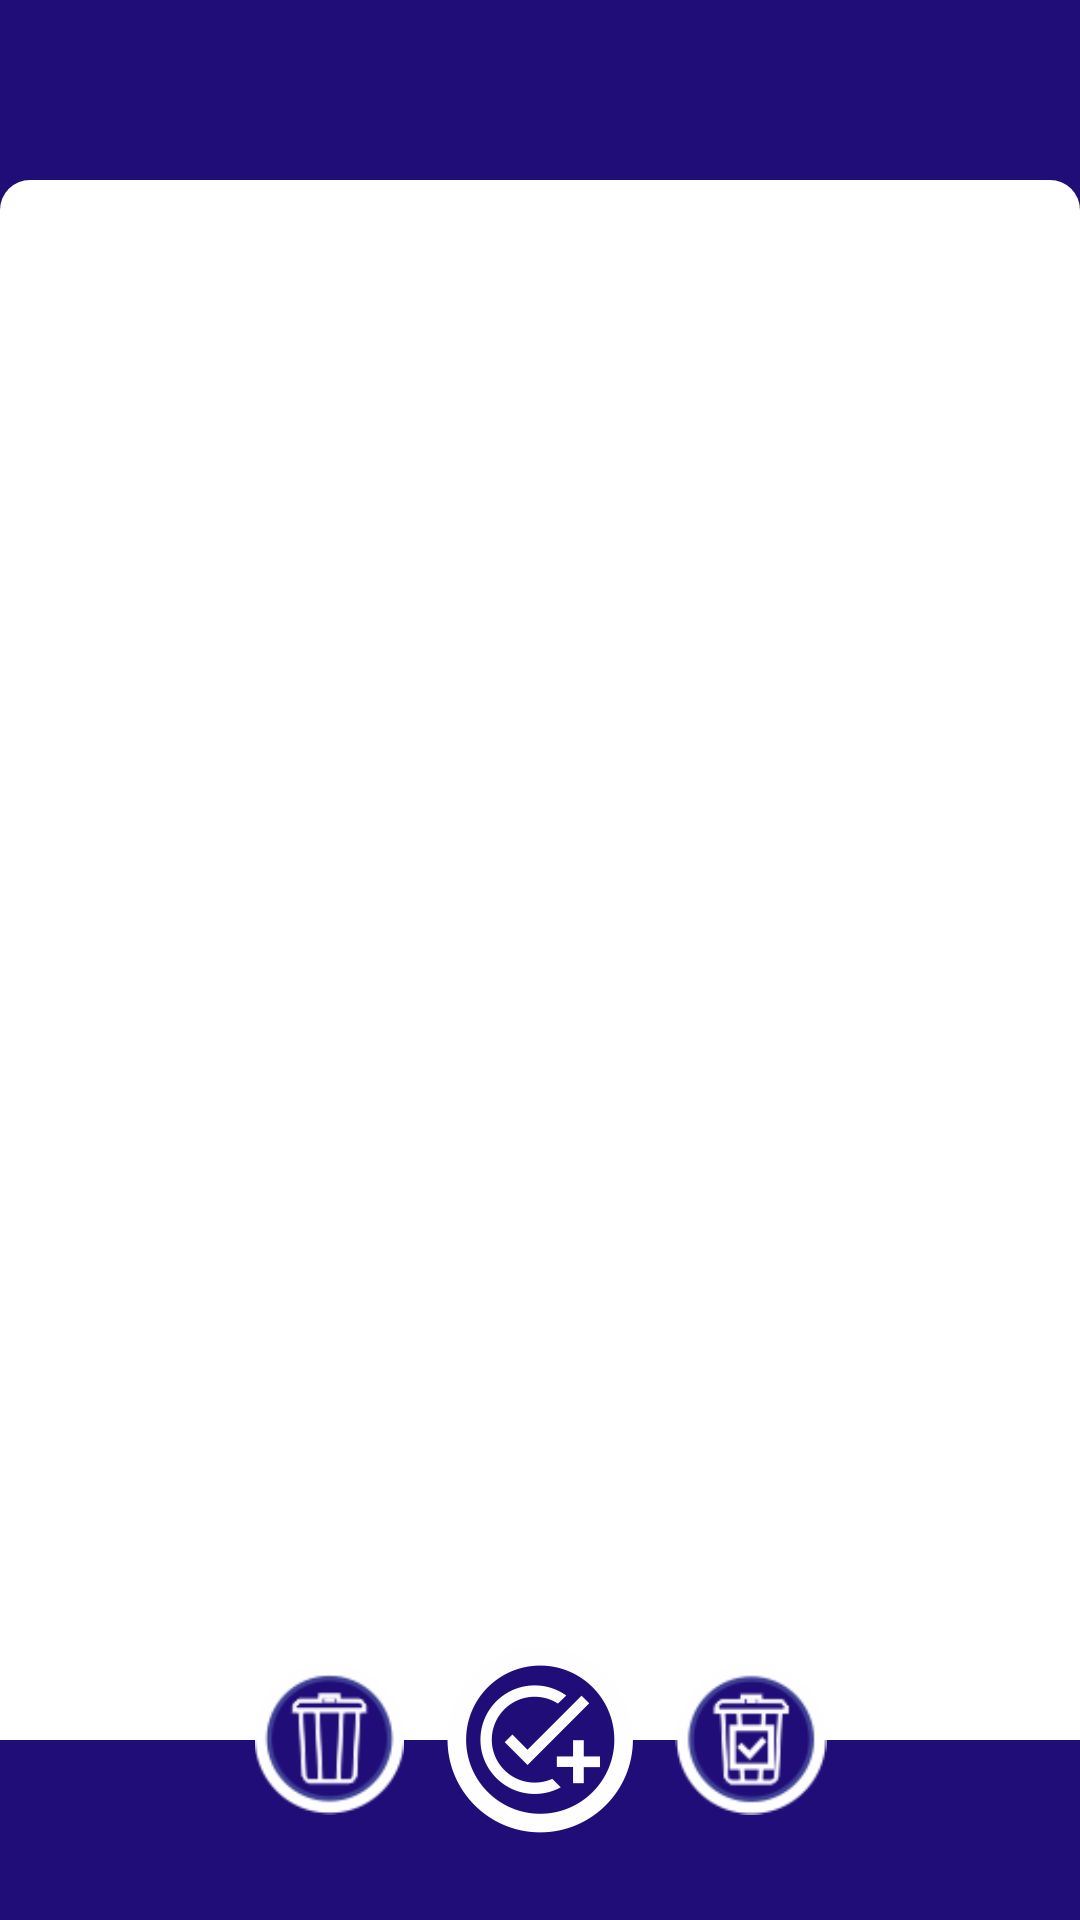

Named icons in this screenshot (1080px×1920px) and their centers, [x,y]:
task: [540,1739]
